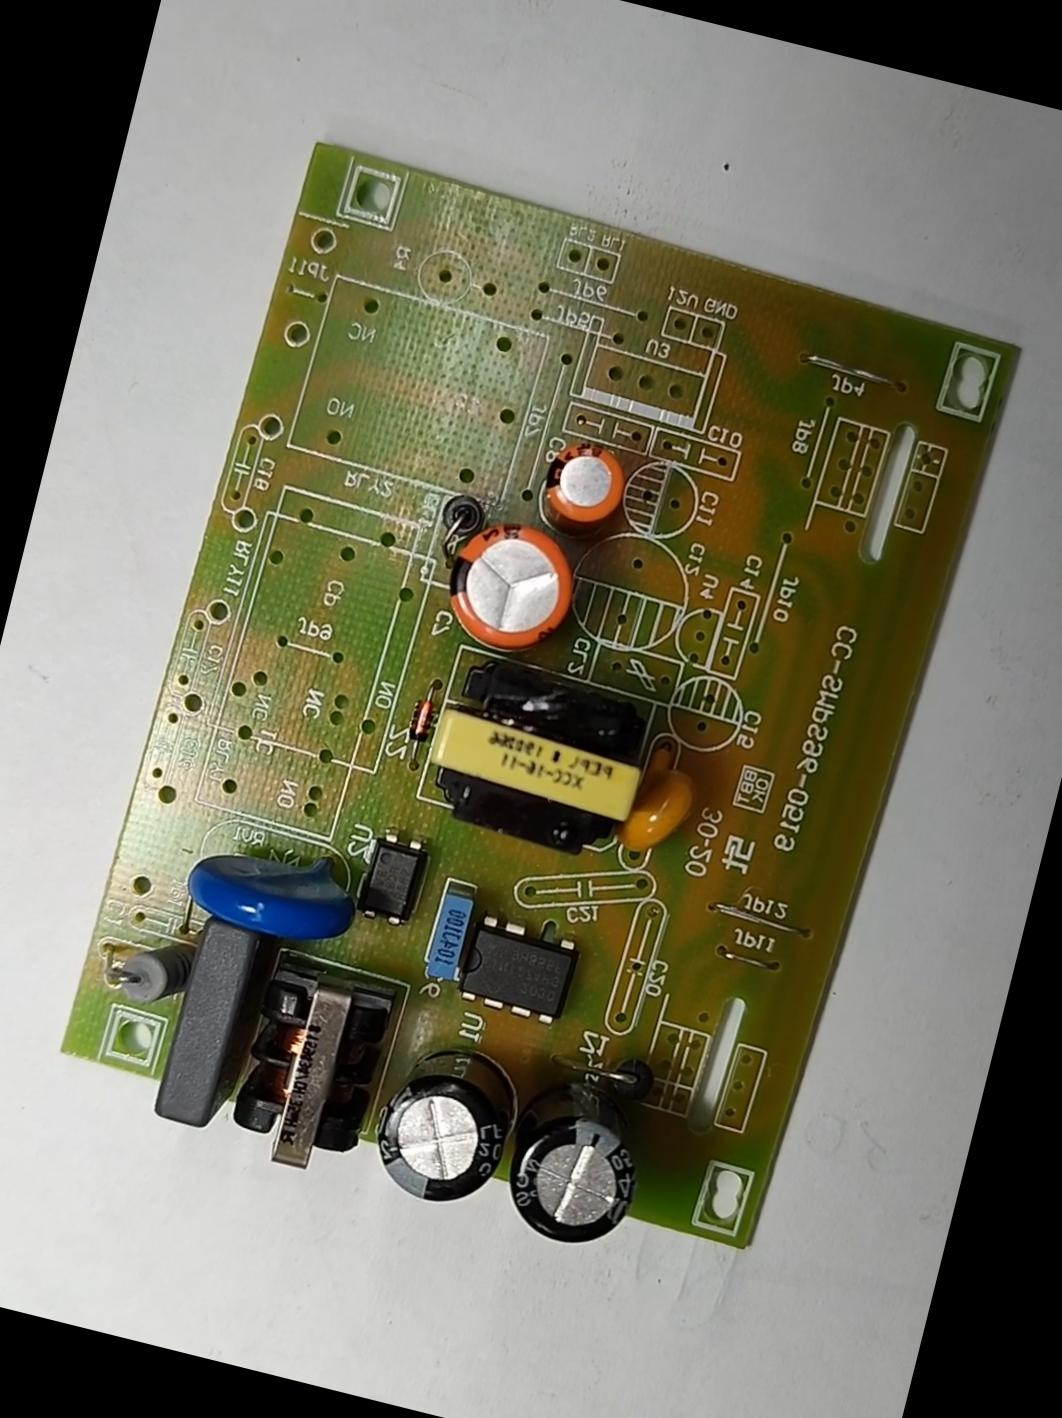Cap1: (432, 510, 589, 665)
Cap2: (535, 430, 633, 531)
Cap3: (361, 1030, 530, 1218)
Cap4: (492, 1078, 659, 1261)
MOSFET: (453, 907, 583, 1030)
Mov: (178, 819, 371, 958)
Resistor: (113, 926, 197, 1013)
Transformer: (415, 655, 658, 869), (216, 962, 395, 1185)
